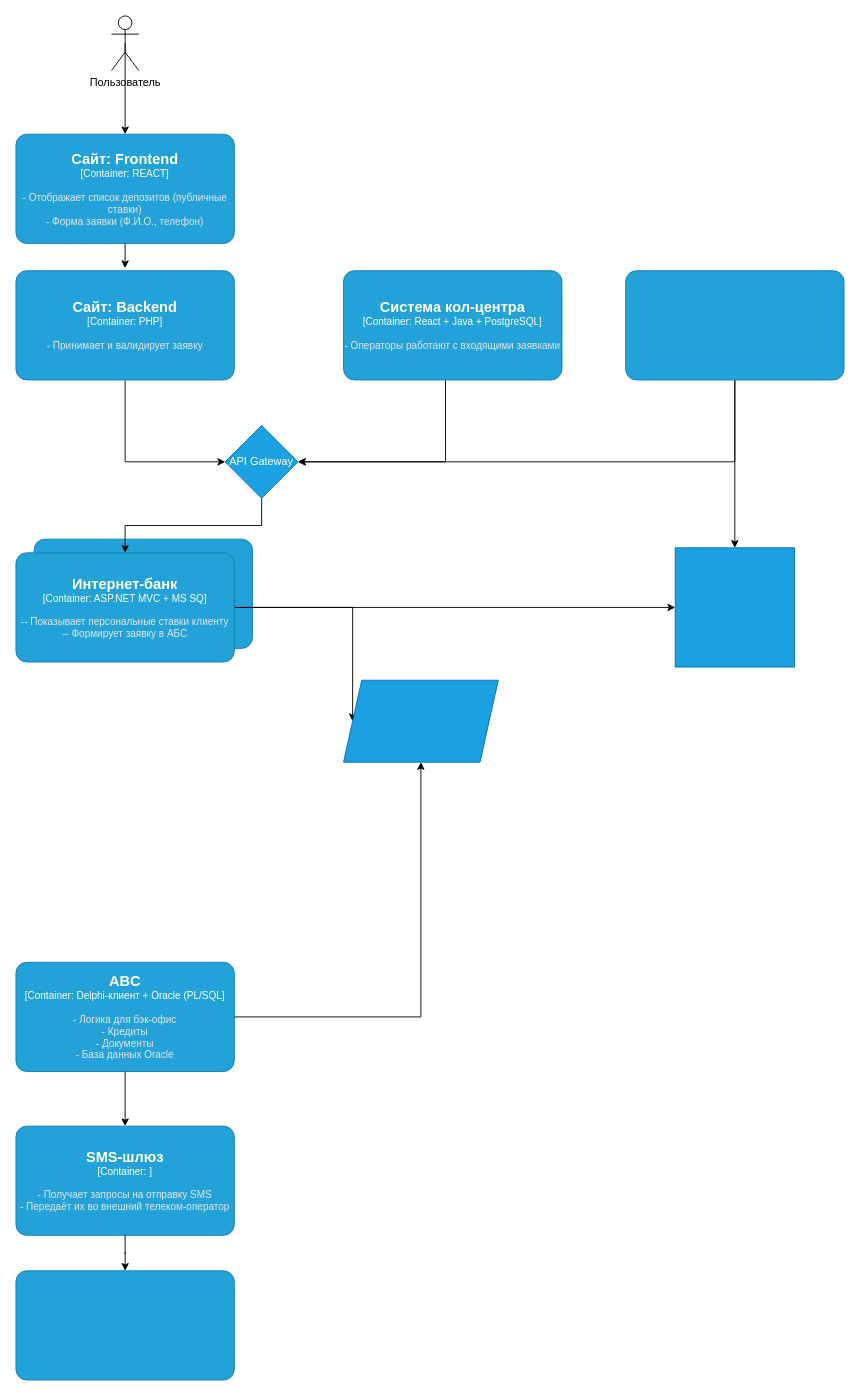
Image size: 860x1396. Some labels were removed from this diagram. Each missing label, with the centre of its shape:
"Kafka Используем EDD(Event-Driven Design) Хранит событие о новых ставках" belongs at point (420, 720).
"Защищенный email" belongs at point (734, 607).
"Партнерский кол-центр [Container: ]" belongs at point (734, 325).
"Телеком-оператор [Container: ]" belongs at point (124, 1325).
